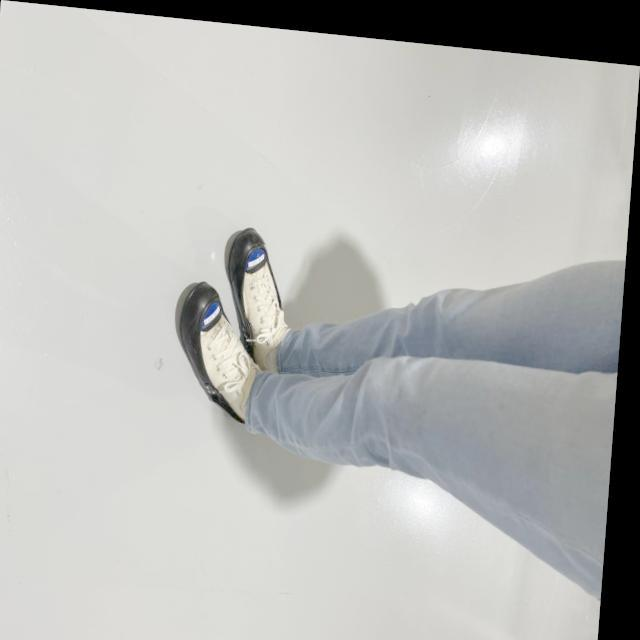shoes: (172, 287, 260, 418), (220, 228, 302, 364)
